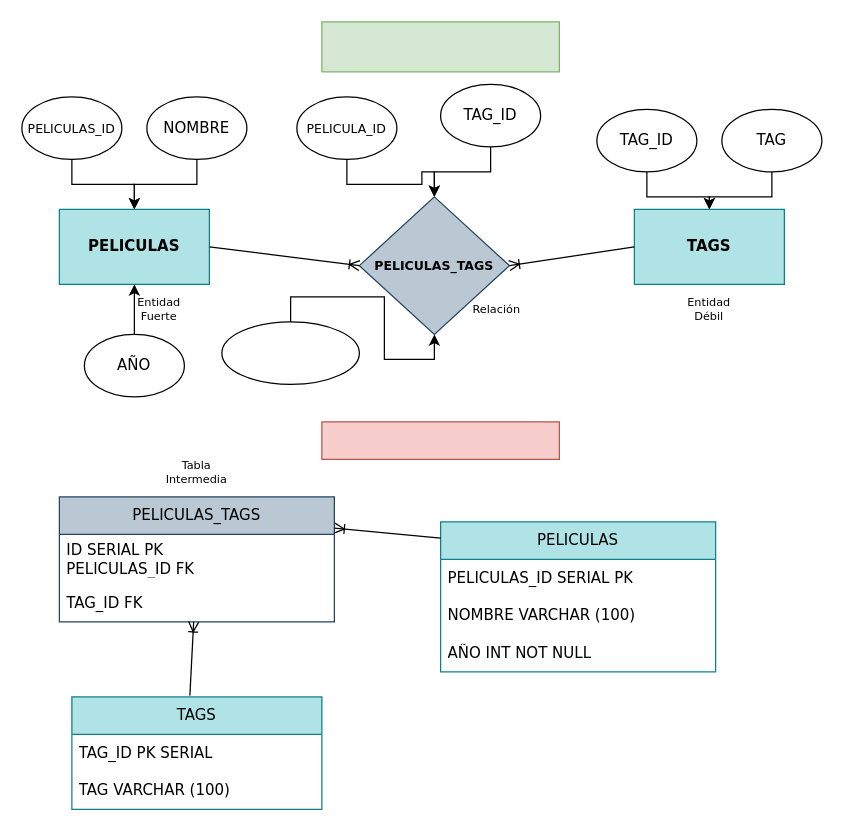
Some shapes in this 844 by 831 pixel diagram are drawn without their labels. The shapes that lost their labels are listed below. From the top down, each one's centre as x and y in pixels, then its label:
At [440,46]: "Modelo Entidad-Relación peliculas-tags".
At [290,352]: "PELICULAS_TAGS_ID".
At [440,440]: "Modelo Relacional".
